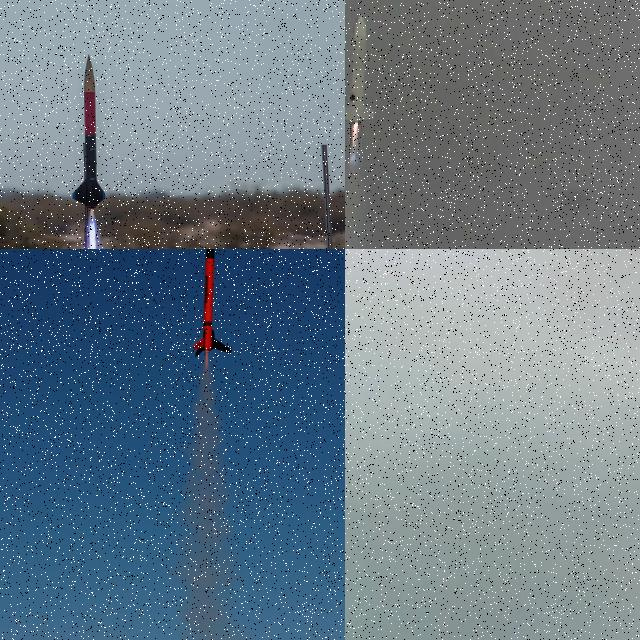Rocket: (72, 54, 106, 210), (192, 249, 233, 356), (345, 12, 377, 122)
